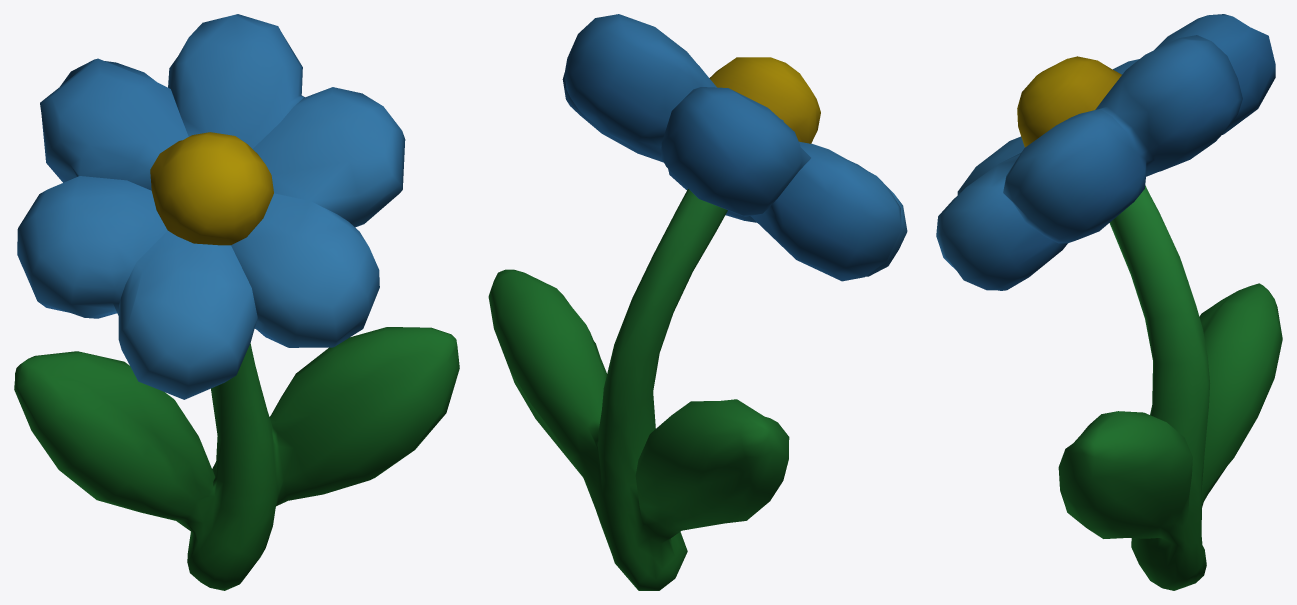
File: Flower.glb
3 views of the same model, side by side, from view 1: azimuth 30°, elevation 25°; view 2: azimuth 150°, elevation 25°; view 3: azimuth 270°, elevation 25° (orthographic).
Parts seen in each view (by area): view 1: geometry_0; view 2: geometry_0; view 3: geometry_0.
Part boxes in pixels (x1,y1,x2,y2): geometry_0: [14, 14, 459, 590]; geometry_0: [488, 14, 907, 590]; geometry_0: [936, 14, 1282, 590].
Size of the model in its own units: 0.8916 by 1.15 by 0.6511.
1 material, 1 textured.
